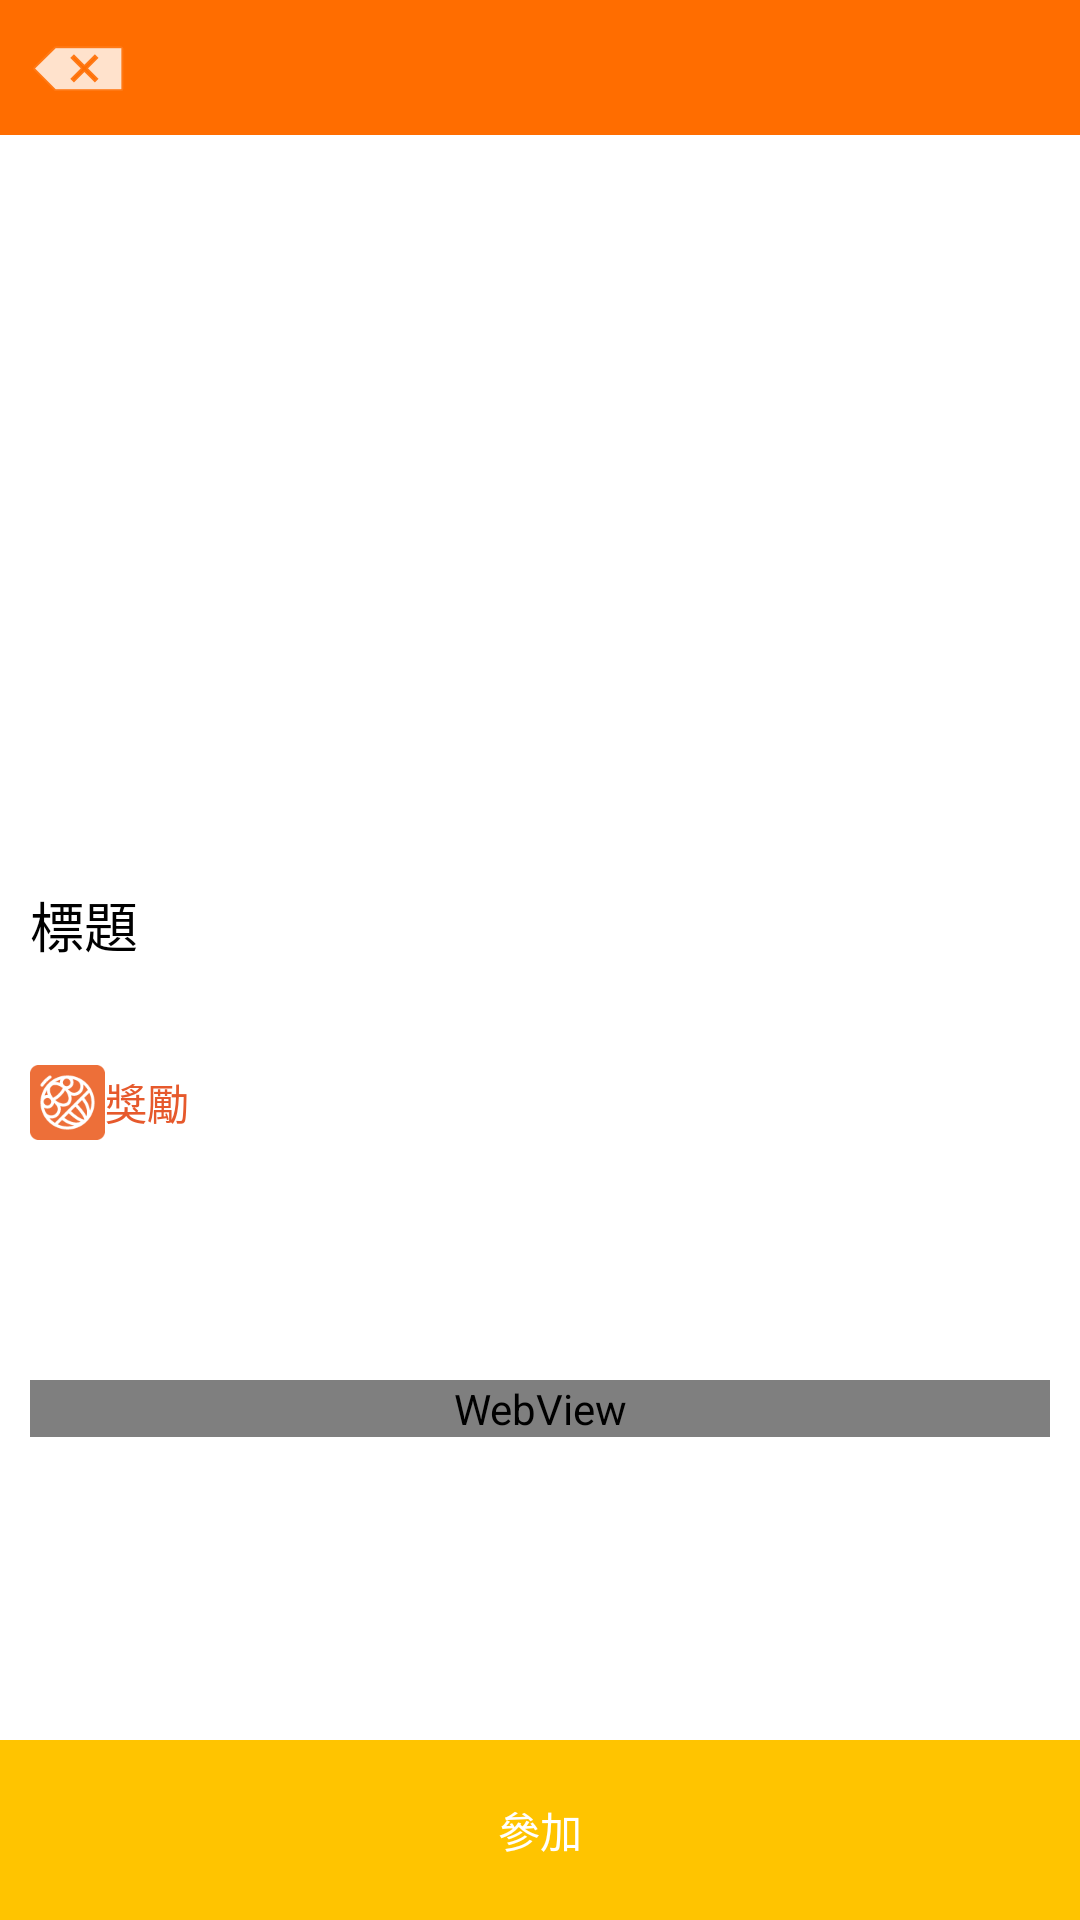

Screen size 1080 × 1920. Icon name, then its box in pixels as [x1, y1, x2, y2]:
delete: [35, 48, 122, 90]
